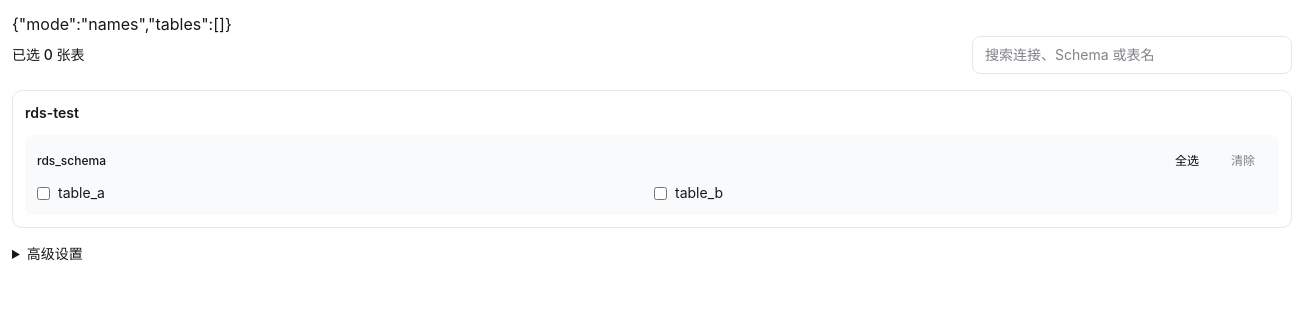
RoleTableGrants › supports search and schema select/clear
Type "table_b" into the field named "搜索可访问的表".
click(1132, 55); type("table_b")  # box [972,36,1292,74]
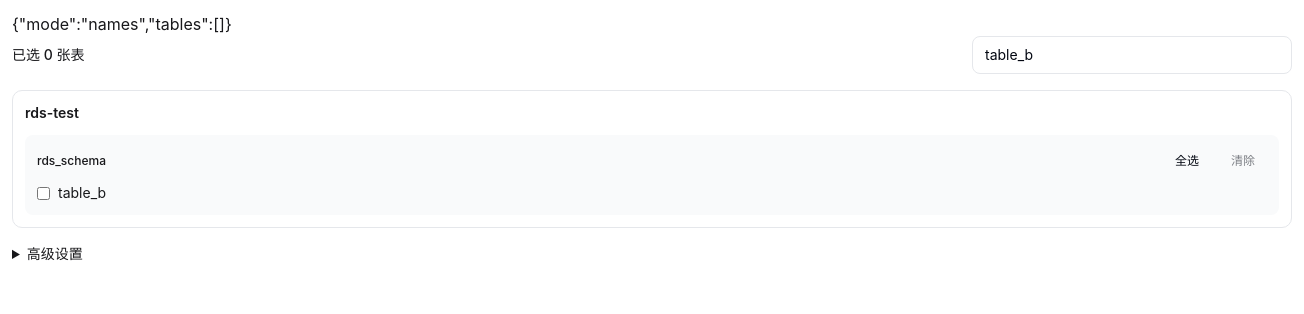
Expected: the checkbox labelled "table_b" is shown, [37,186,50,200]
Now the text "table_a" is gone
Clear the field named "搜索可访问的表" at (1132, 55), box [972,36,1292,74]
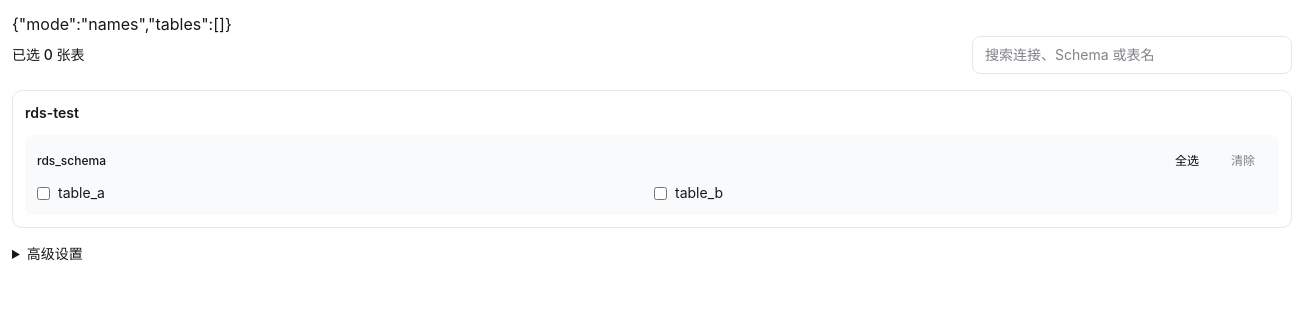
Click the button "全选".
click(1187, 161)  # box [1163,147,1211,175]
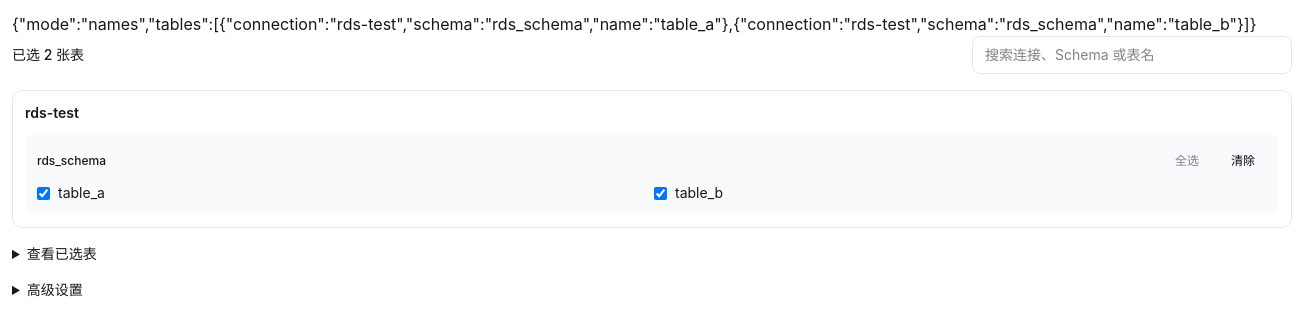
Now the text "已选 2 张表" is shown, box [12,45,84,65]
Click the button "清除".
click(1243, 161)  # box [1219,147,1267,175]
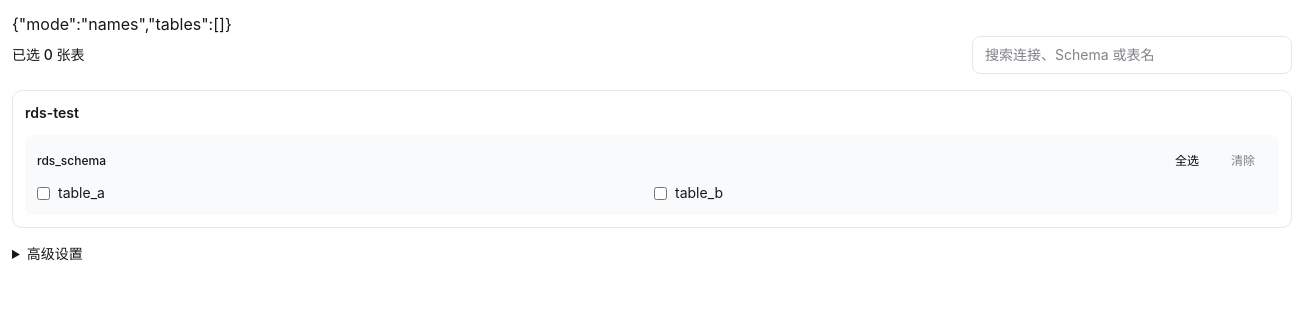
Now the text "已选 0 张表" is shown, box [12,45,84,65]
